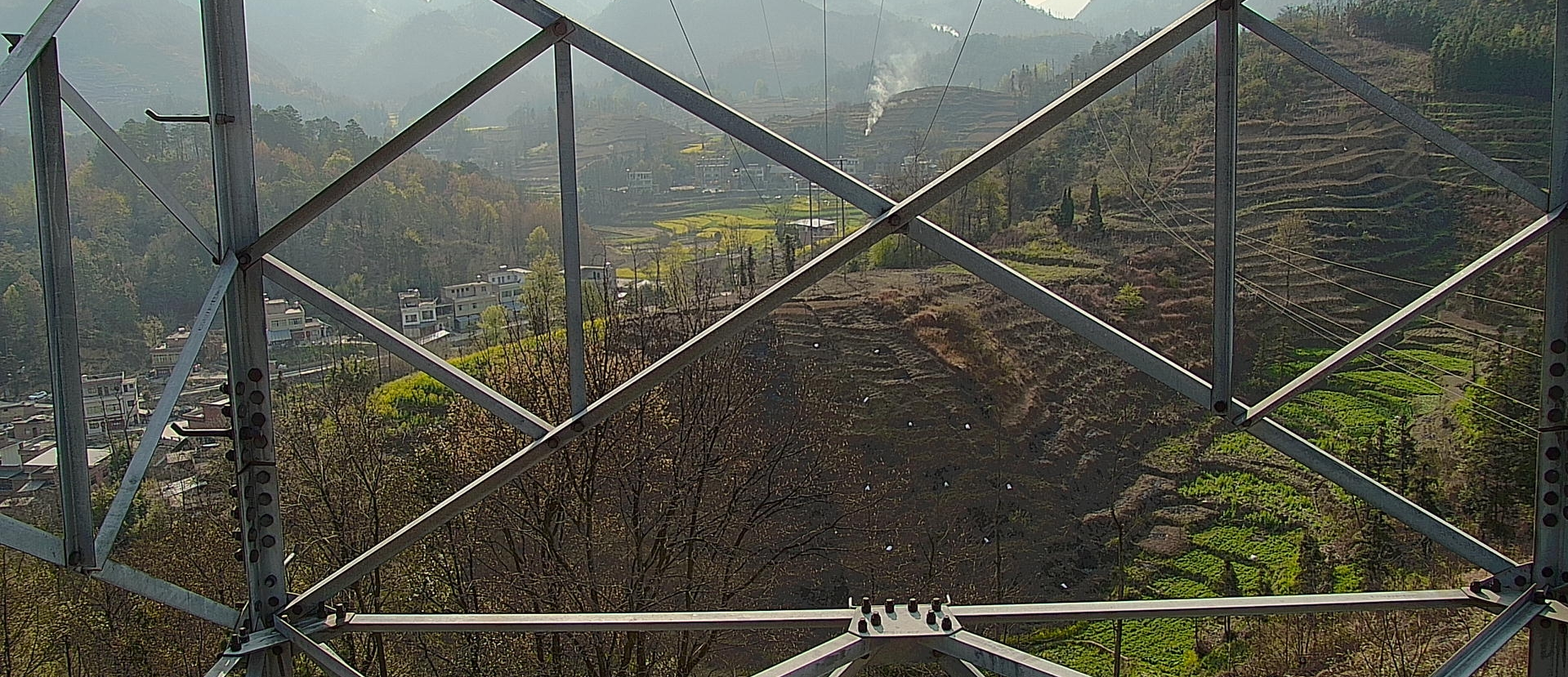烟雾: (863, 41, 936, 136)
